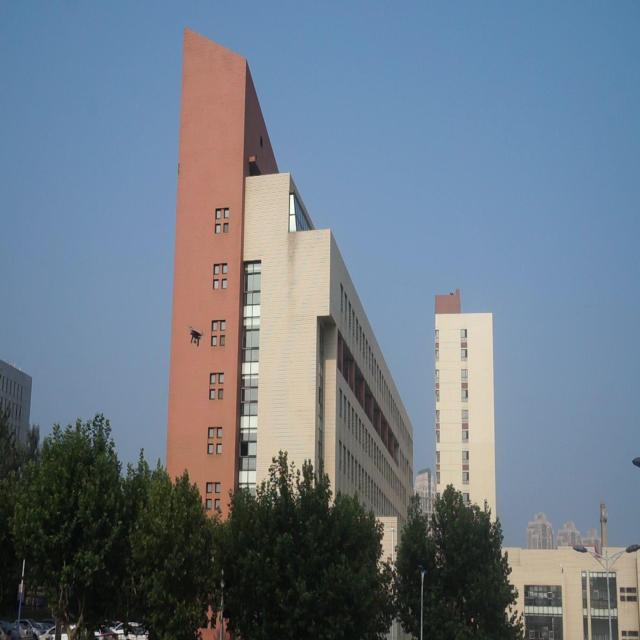drone: (187, 322, 204, 350)
